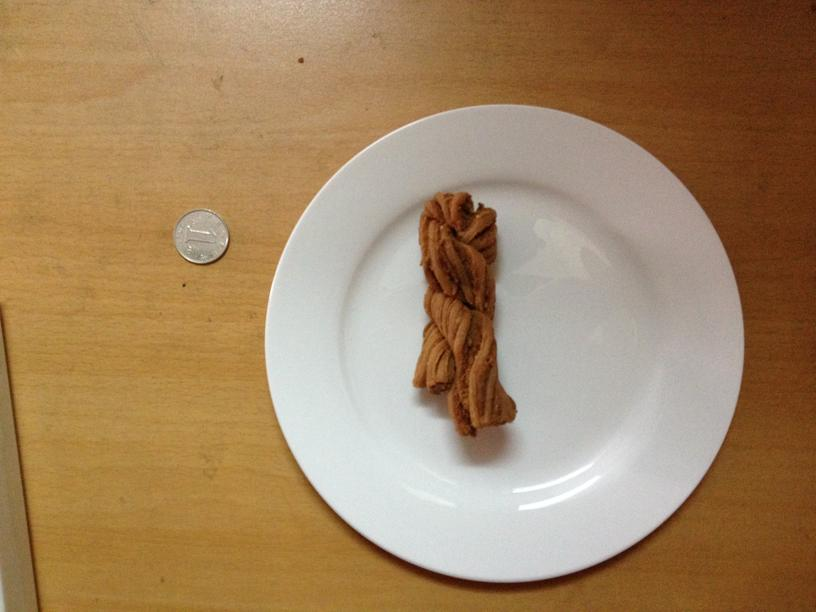coin: (175, 208, 229, 265)
fired_dough_twist: (406, 191, 516, 433)
